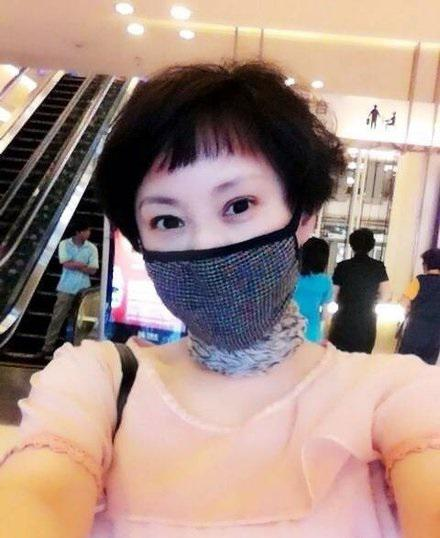OK: (140, 179, 301, 340)
